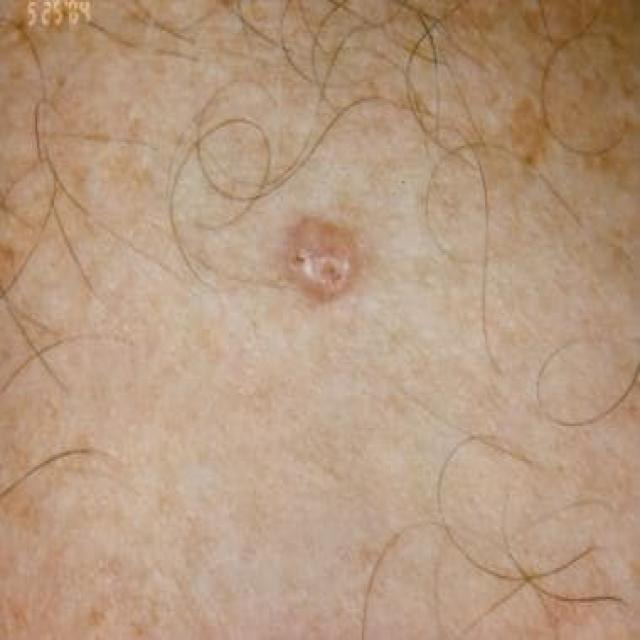Cancer: (268, 214, 386, 324)
